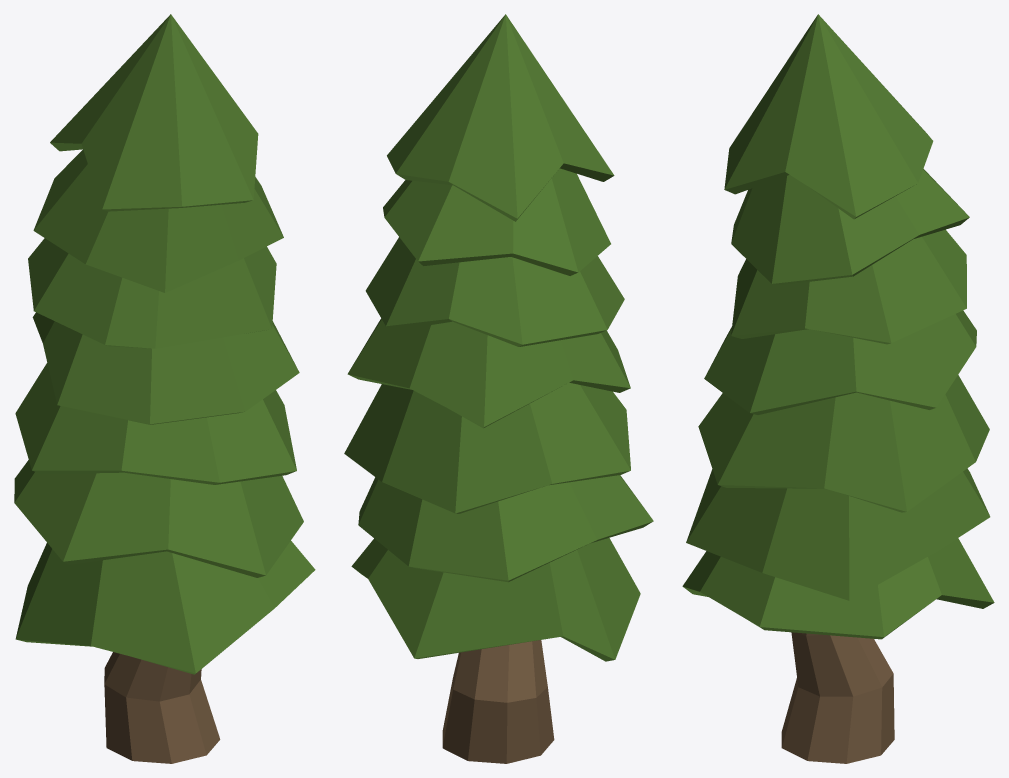
Rendered from tree3.fbx.
3 renders of one model, left to right at view 1: azimuth 30°, elevation 25°; view 2: azimuth 150°, elevation 25°; view 3: azimuth 270°, elevation 25°, orthographic.
Visible parts, largest first — view 1: Cylinder; view 2: Cylinder; view 3: Cylinder.
Part boxes in pixels (<box>): Cylinder: <box>14,14,315,763</box>; Cylinder: <box>344,14,653,763</box>; Cylinder: <box>682,14,994,763</box>.
Bounding box in the file's own units: 116 × 306 × 119.
